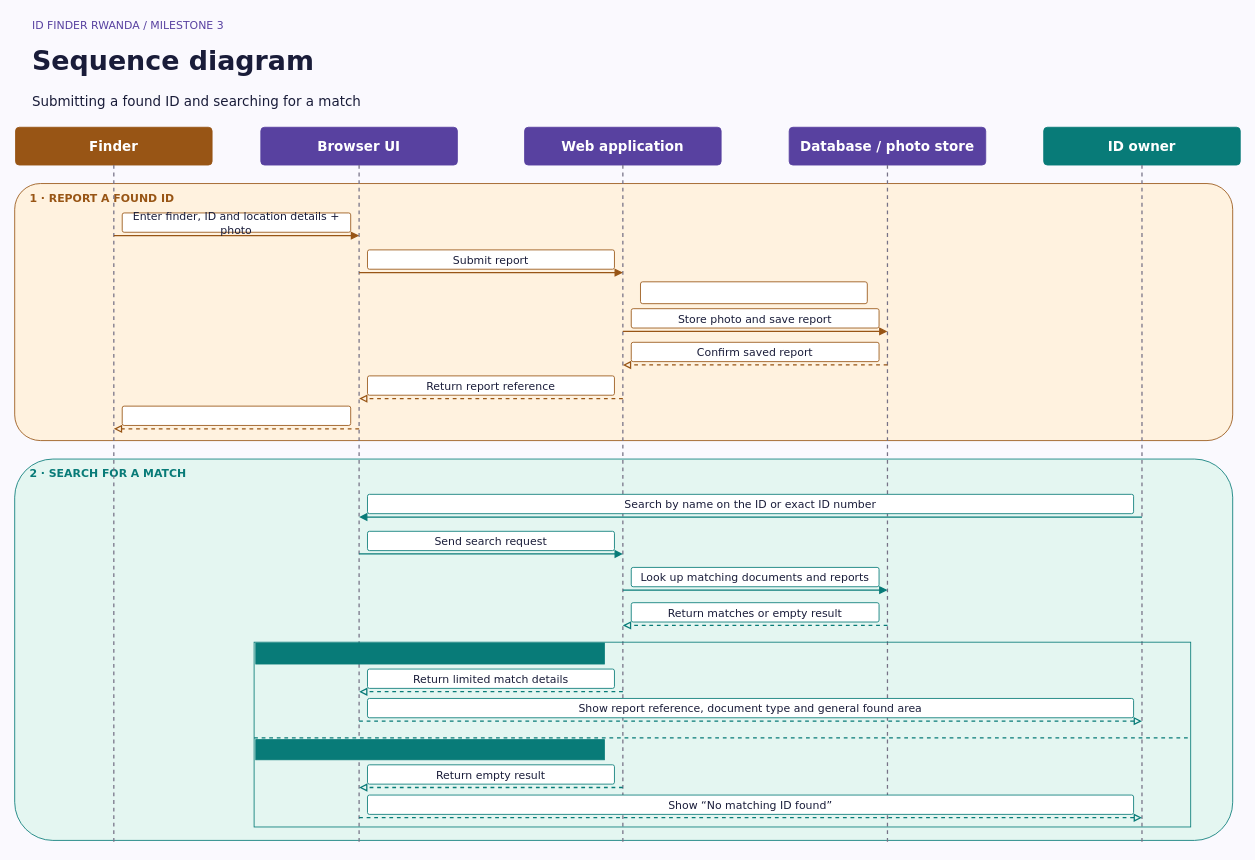
Image size: 1255x860. Some labels were removed from this diagram. Here are the shapes that lost their labels. From the top down, the box of each, then its label:
(640, 281, 867, 304): Validate fields and image
(121, 405, 351, 425): Show submission confirmation
(255, 642, 604, 664): alt [Match found]
(255, 739, 604, 760): [No match]
